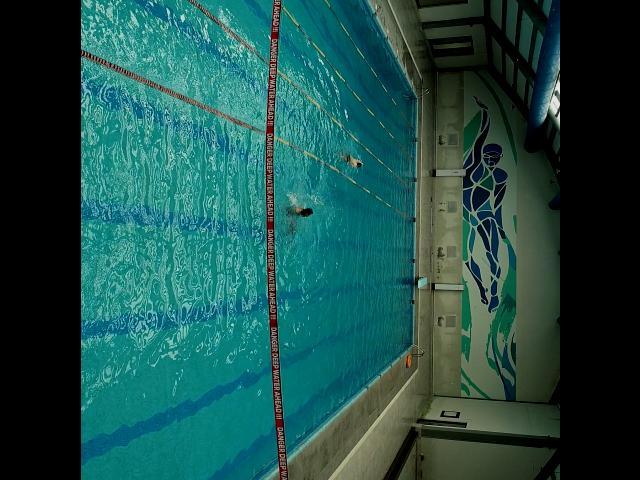swimming: (286, 202, 314, 218), (339, 152, 363, 169)
